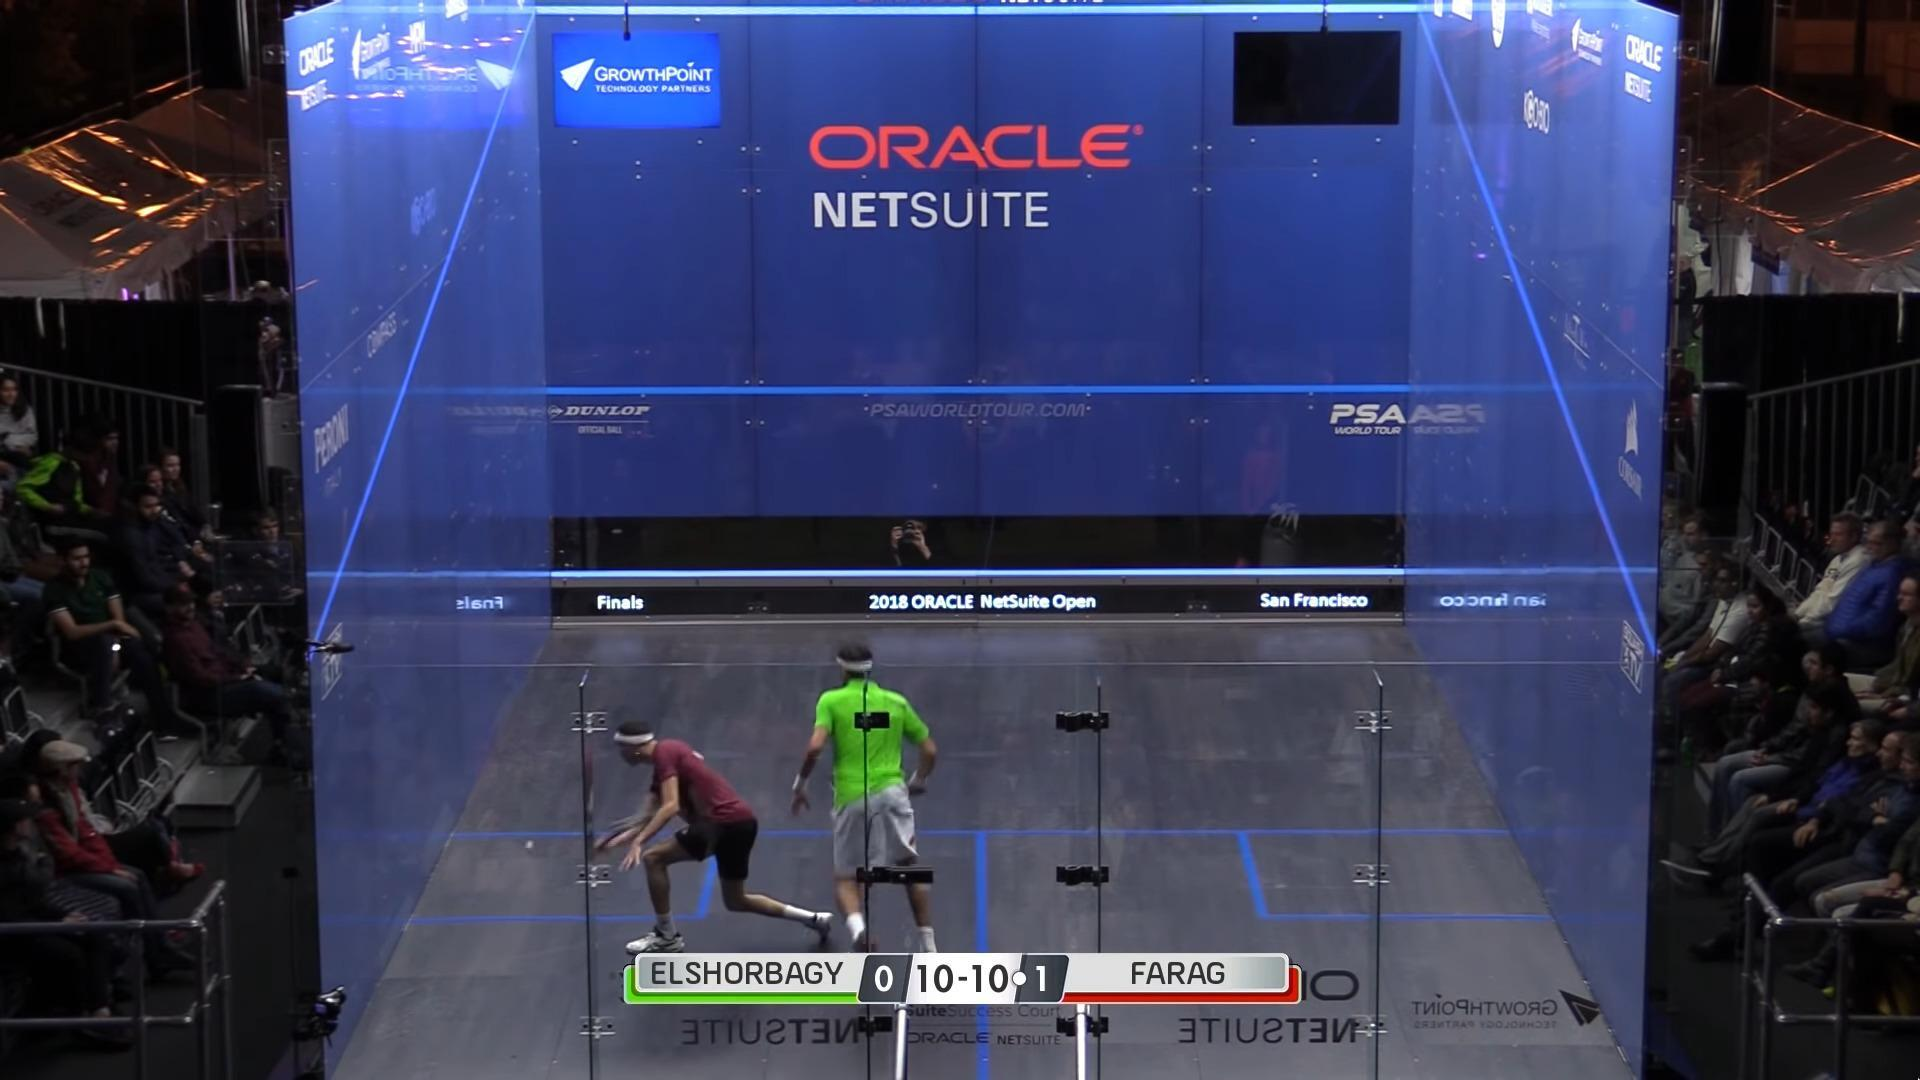Squash-Ball: (524, 835, 545, 858)
